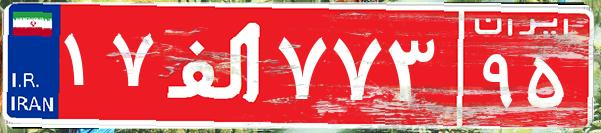1: (57, 26, 110, 107)
3: (385, 28, 445, 110)
5: (525, 38, 570, 115)
7: (273, 28, 330, 110), (330, 28, 385, 110), (110, 28, 158, 105)
9: (475, 38, 525, 113)
الف: (158, 15, 273, 115)
